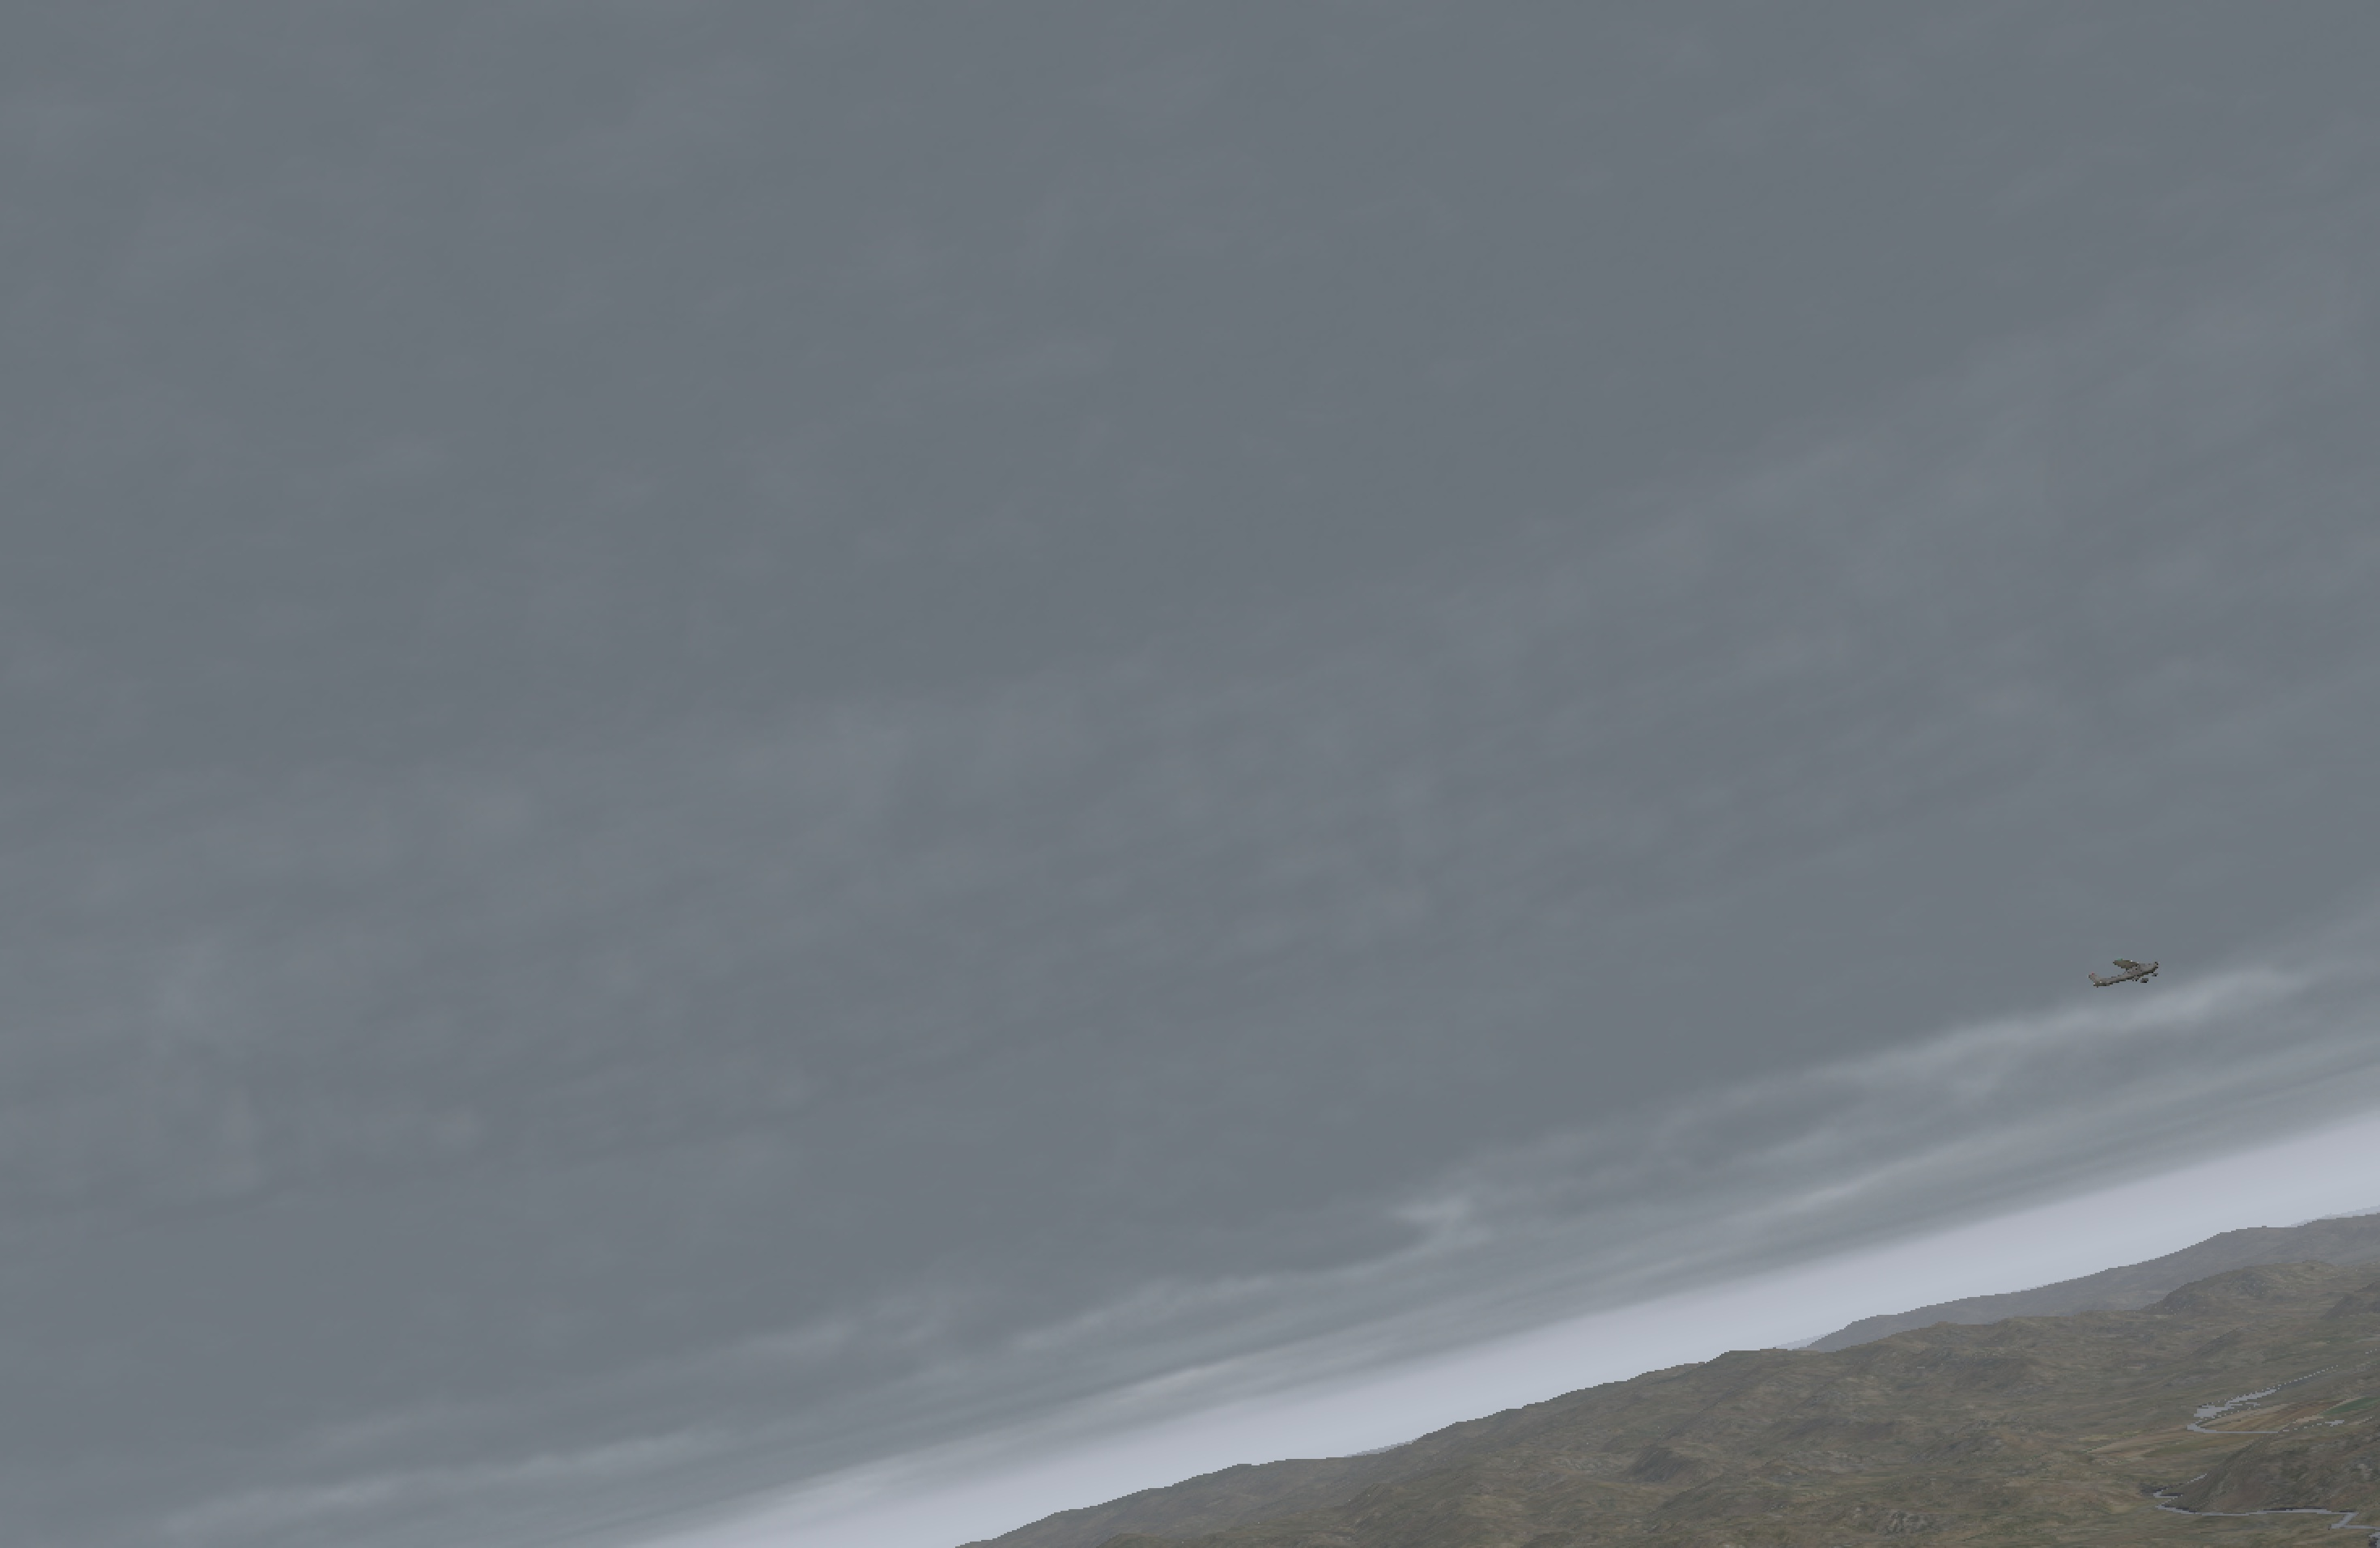aircraft: (2109, 958, 2170, 981)
